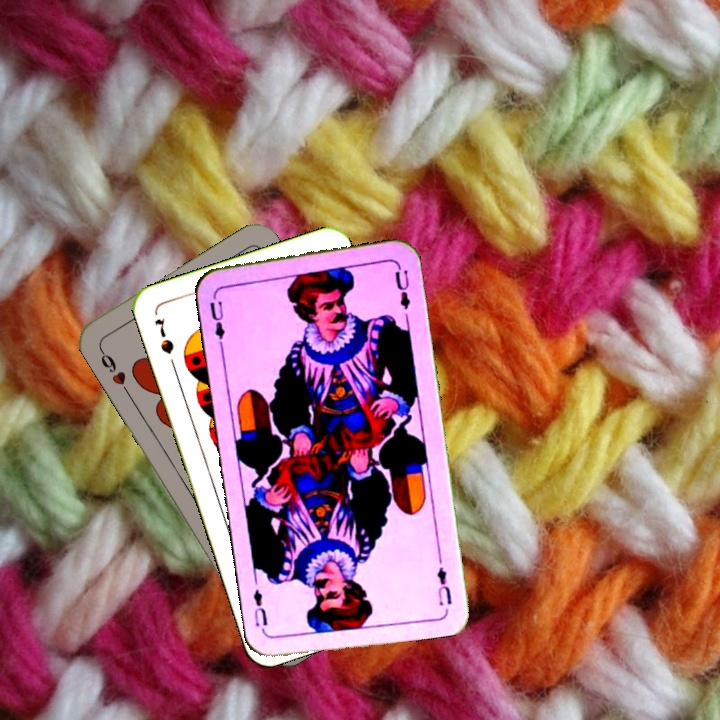EU: (206, 290, 227, 349), (433, 563, 455, 608)
H9: (95, 344, 132, 397)
S7: (150, 314, 177, 357)
